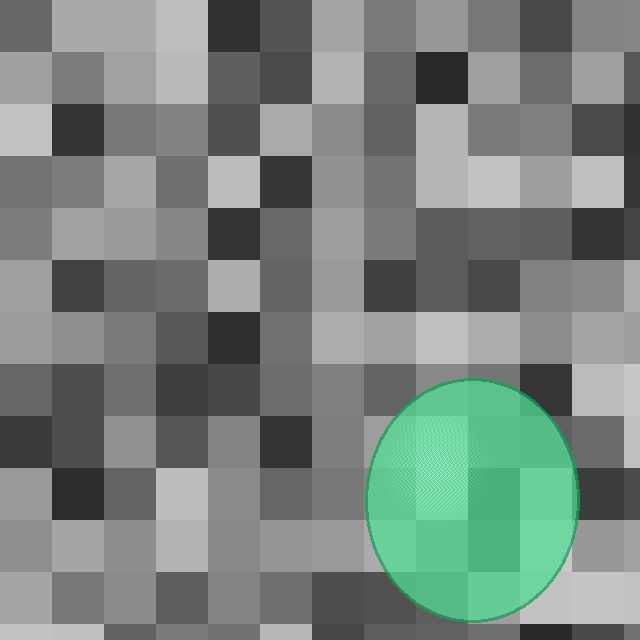lens: (366, 379, 578, 621)
